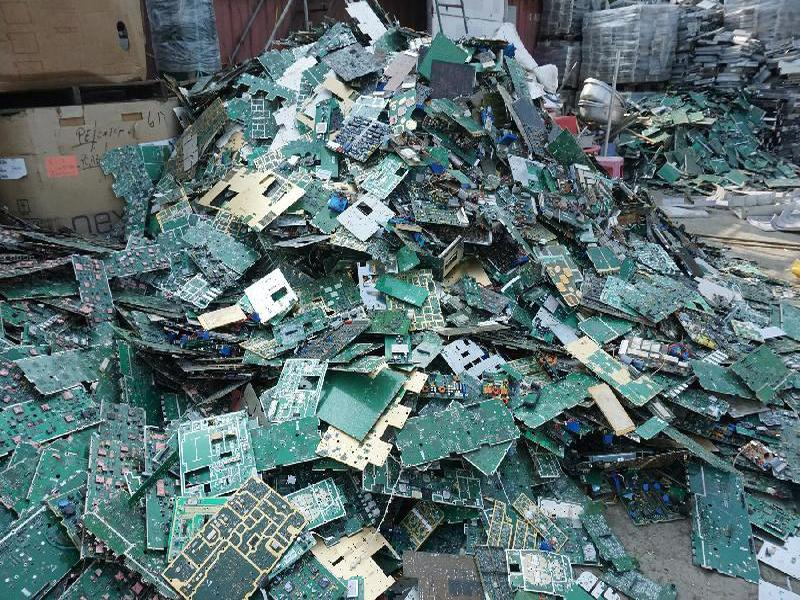circuit_board: (2, 394, 156, 569), (468, 474, 673, 600), (97, 144, 261, 283), (153, 474, 317, 600), (553, 219, 697, 324), (677, 456, 775, 590), (387, 394, 527, 478), (161, 408, 266, 500), (13, 342, 138, 397)
